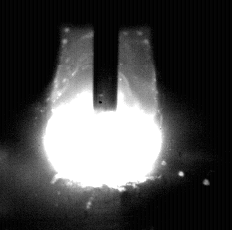arame: (94, 0, 119, 112)
poca: (41, 0, 164, 230)
